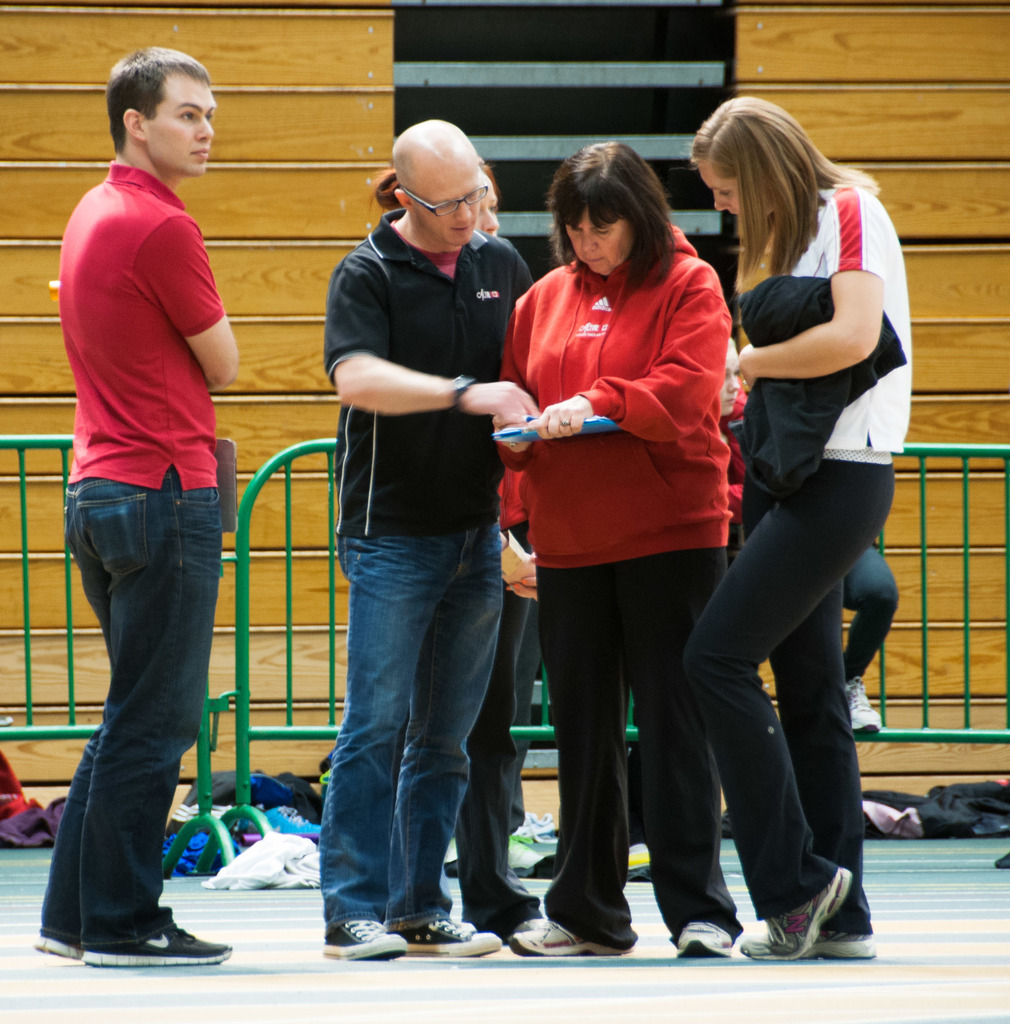Person: (318, 95, 912, 960), (31, 46, 235, 966)
